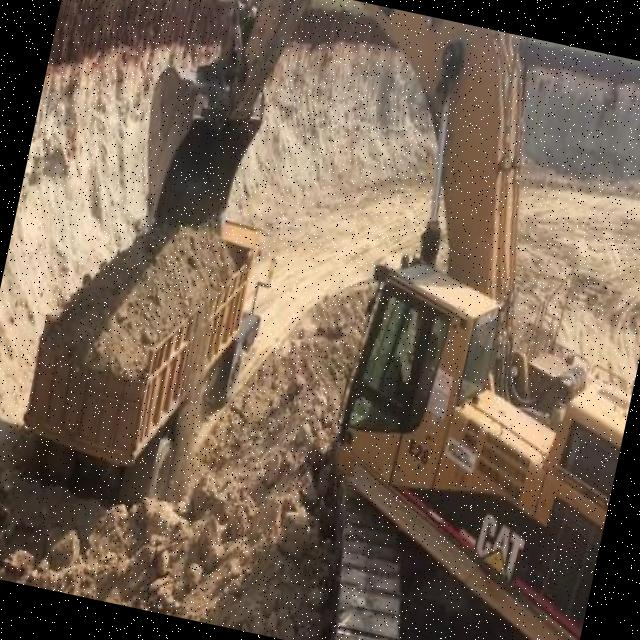Dump Truck: (9, 167, 286, 508)
Excavator: (40, 0, 640, 640)
